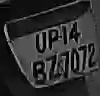0: (70, 47, 81, 72)
1: (61, 25, 69, 46)
2: (88, 42, 97, 69)
4: (68, 23, 83, 46)
7: (45, 54, 58, 81), (60, 50, 71, 80), (78, 45, 89, 72)
B: (31, 60, 48, 85)
P: (48, 27, 59, 50)
U: (33, 31, 48, 55)
